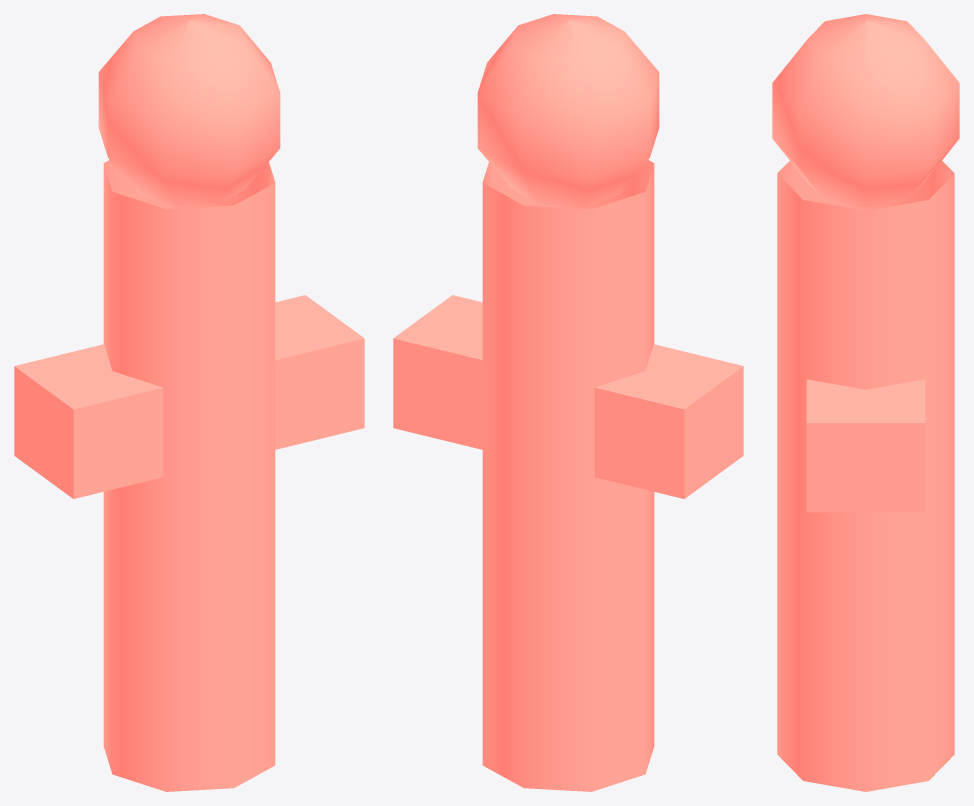
File: hydrant.glb
3 renders of one model, left to right at view 1: azimuth 30°, elevation 25°; view 2: azimuth 150°, elevation 25°; view 3: azimuth 270°, elevation 25°, orthographic.
Visible parts, largest first — view 1: hydrant; view 2: hydrant; view 3: hydrant.
Boxes of the visible parts, left/top/right/bottom form: hydrant: left=14, top=14, right=364, bottom=791; hydrant: left=393, top=14, right=743, bottom=791; hydrant: left=772, top=14, right=959, bottom=791.
Size of the model in its own units: 0.34 by 0.82 by 0.1902.
